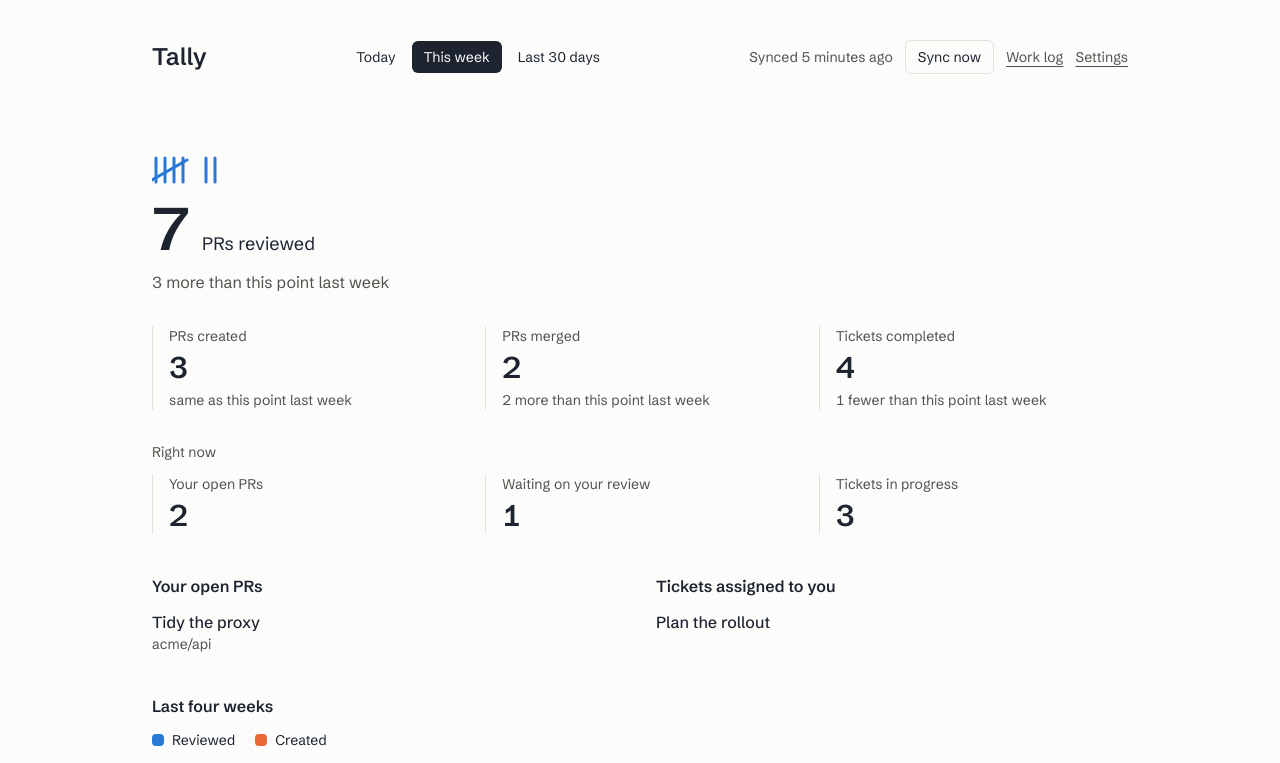
Test: Dashboard › names repos whose reviews are not counted
Check: the picture named "7 PRs reviewed" is shown, box [152, 154, 224, 186]
Click the button "Sync now".
click(949, 57)  # box [905, 40, 994, 74]
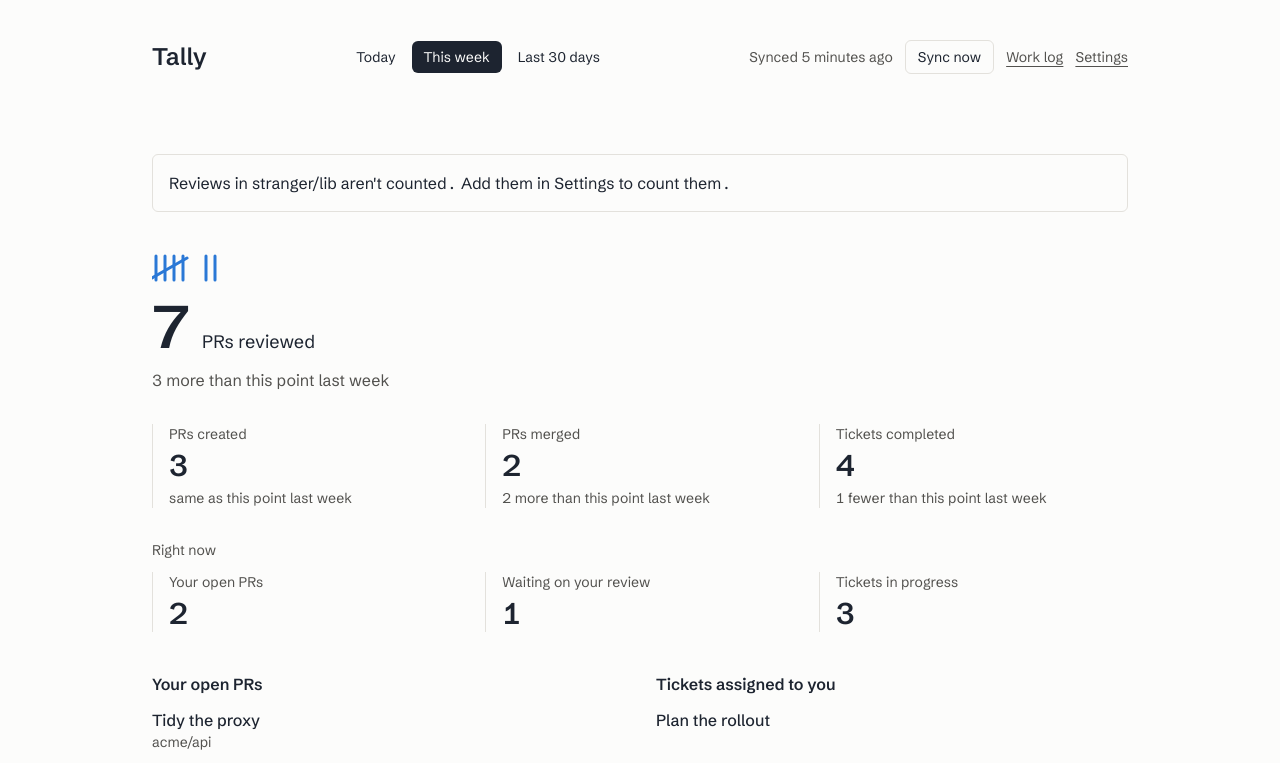
Check: the message shows "stranger/lib", box [169, 173, 731, 193]
